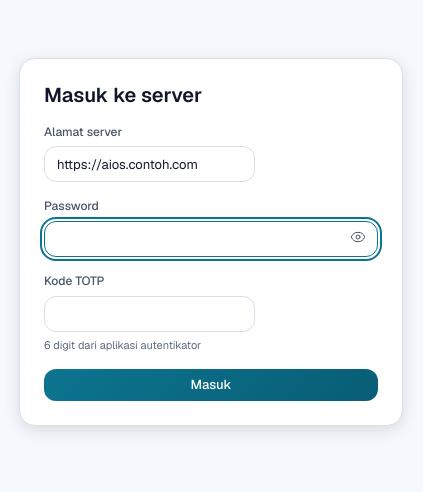
Scenario: LoginScreen › kredensial salah menampilkan pesan dengan langkah berikutnya dan form tetap bisa dipakai
Type "salah" into the password field labelled "Password". click: (211, 239)
box: x1=44 y1=221 x2=378 y2=257
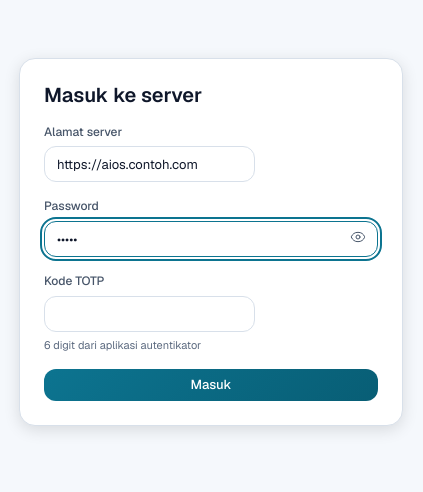
Type "123456" into the field labelled "Kode TOTP". click: (150, 314)
box: x1=44 y1=296 x2=255 y2=332
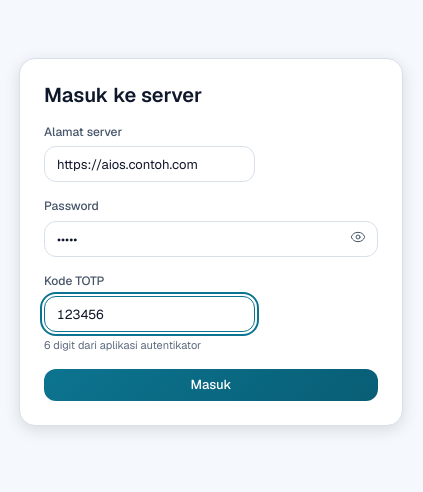
Click the button "Masuk". click: (211, 385)
box: x1=44 y1=369 x2=378 y2=401
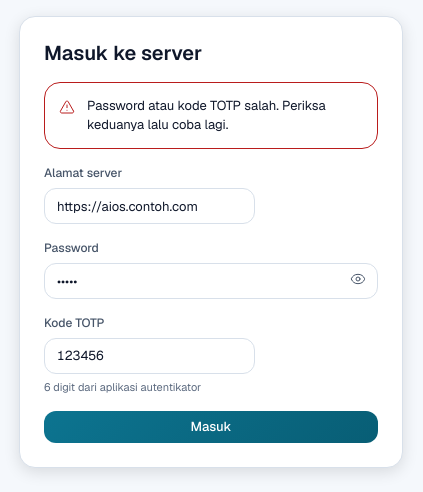
Expected: the button "Masuk" is enabled, x1=44 y1=411 x2=378 y2=443
Now the message reads "Password atau kode TOTP salah. Periksa keduanya lalu coba lagi.", box x1=87 y1=97 x2=326 y2=133
